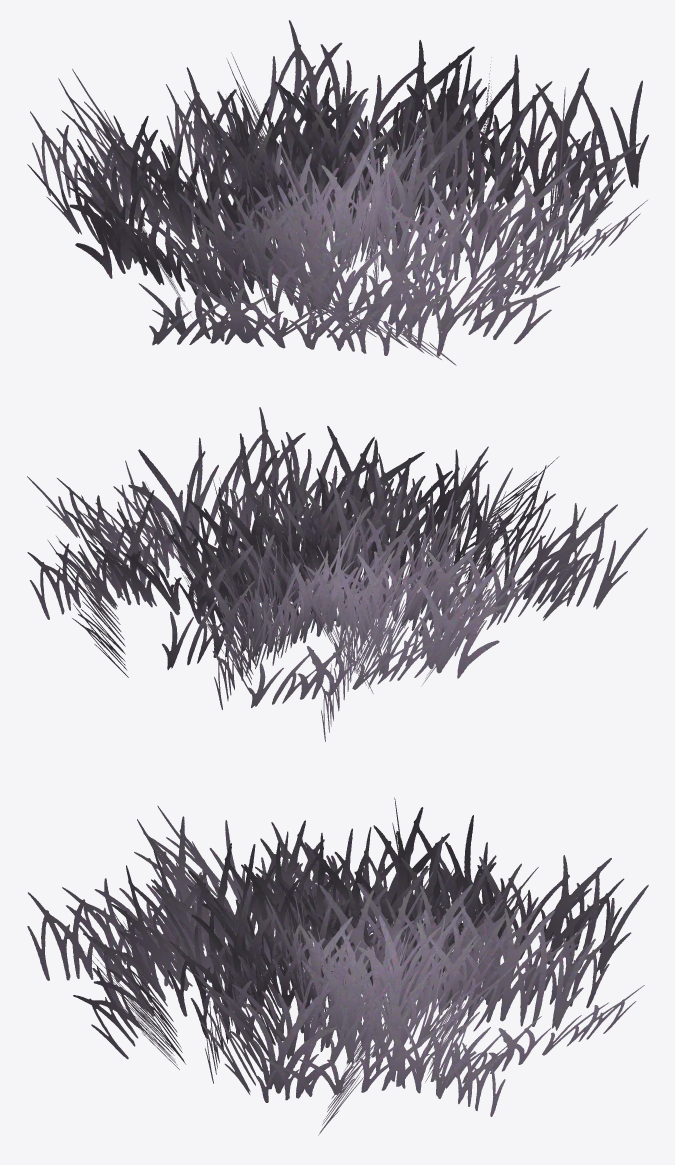
3 views of the same model, one above another, from view 1: azimuth 30°, elevation 25°; view 2: azimuth 150°, elevation 25°; view 3: azimuth 270°, elevation 25° (orthographic). The views are drawn at different scales.
Parts seen in each view (by area): view 1: SM_FH_GrassShort_03_NoDeform_LOD0; view 2: SM_FH_GrassShort_03_NoDeform_LOD0; view 3: SM_FH_GrassShort_03_NoDeform_LOD0.
Part boxes in pixels (x1,y1,x2,y2): SM_FH_GrassShort_03_NoDeform_LOD0: (27, 20, 648, 365); SM_FH_GrassShort_03_NoDeform_LOD0: (27, 407, 647, 741); SM_FH_GrassShort_03_NoDeform_LOD0: (27, 797, 648, 1135).
Size of the model in its own units: 1.12 by 0.3166 by 1.12.
Materials: 1 (1 with a texture image).
